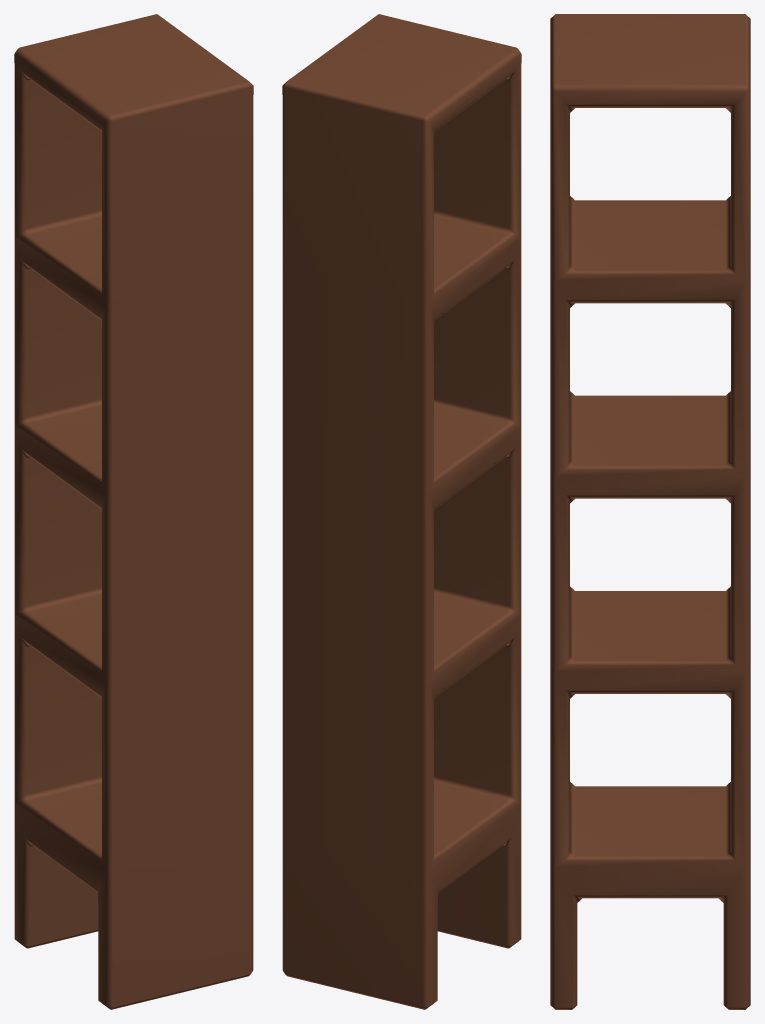
File: Bookshelf_03.fbx
The picture shows the model from 3 angles, left to right: view 1: azimuth 30°, elevation 25°; view 2: azimuth 150°, elevation 25°; view 3: azimuth 270°, elevation 25°; orthographic projection. The views are drawn at different scales.
Parts seen in each view (by area): view 1: Bookshelf_V03; view 2: Bookshelf_V03; view 3: Bookshelf_V03.
Part boxes in pixels (x1,y1,x2,y2): Bookshelf_V03: [14, 14, 253, 1009]; Bookshelf_V03: [282, 14, 521, 1009]; Bookshelf_V03: [550, 14, 750, 1009].
Bounding box in the file's own units: 53.54 × 46.89 × 273.
